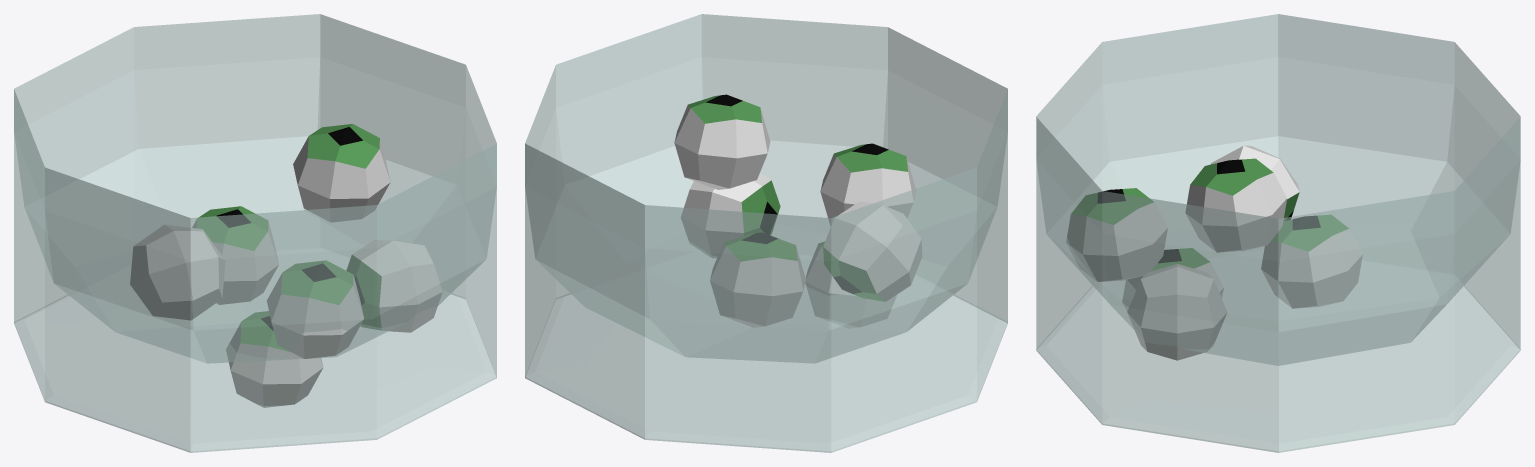
File: bowl.glb
3 renders of one model, left to right at view 1: azimuth 30°, elevation 25°; view 2: azimuth 150°, elevation 25°; view 3: azimuth 270°, elevation 25°, orthographic.
Parts seen in each view (by area): view 1: Cube.010; view 2: Cube.010; view 3: Cube.010.
Part boxes in pixels (box(x1,y1,x2,y2)): Cube.010: box(14, 14, 496, 452); Cube.010: box(525, 14, 1007, 452); Cube.010: box(1036, 14, 1520, 452).
Bounding box in the file's own units: 0.1981 × 0.1082 × 0.1981.
